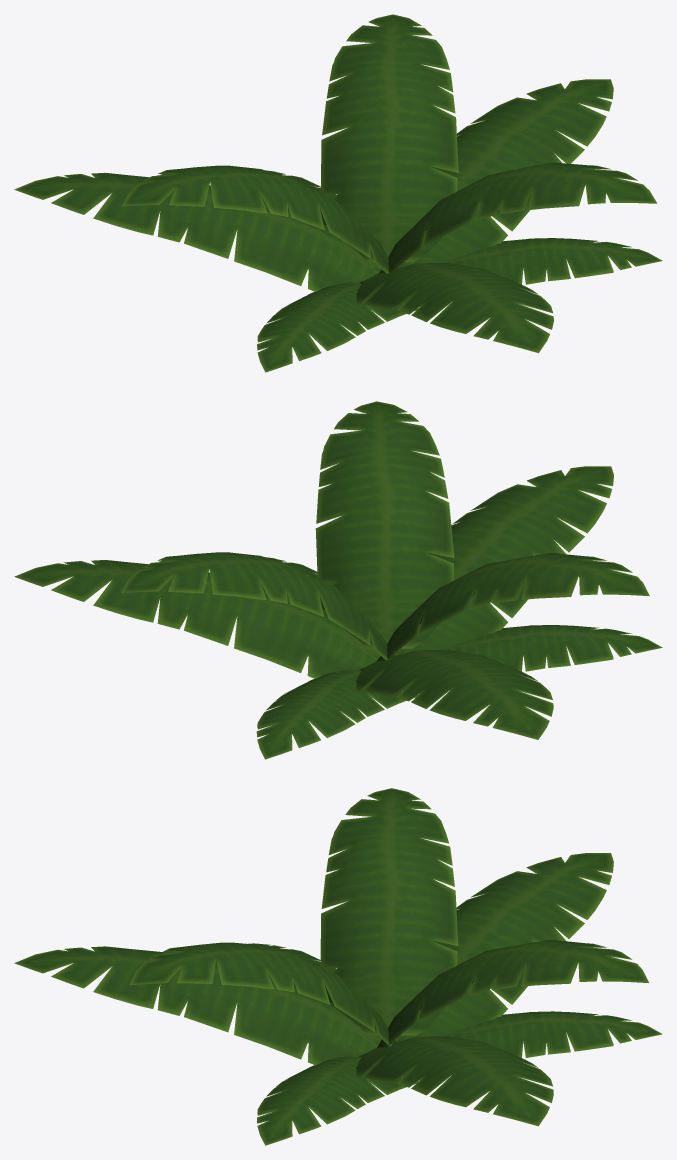
File: planta.obj
The picture shows the model from 3 angles, top to bottom: view 1: azimuth 30°, elevation 25°; view 2: azimuth 150°, elevation 25°; view 3: azimuth 270°, elevation 25°; orthographic projection.
Parts seen in each view (by area): view 1: plant_1; view 2: plant_1; view 3: plant_1.
Part boxes in pixels (box(x1,y1,x2,y2)): plant_1: box(14, 14, 662, 372); plant_1: box(14, 401, 662, 759); plant_1: box(14, 788, 662, 1145).
Bounding box in the file's own units: 8 × 2.14 × 8.
1 material, 1 textured.
